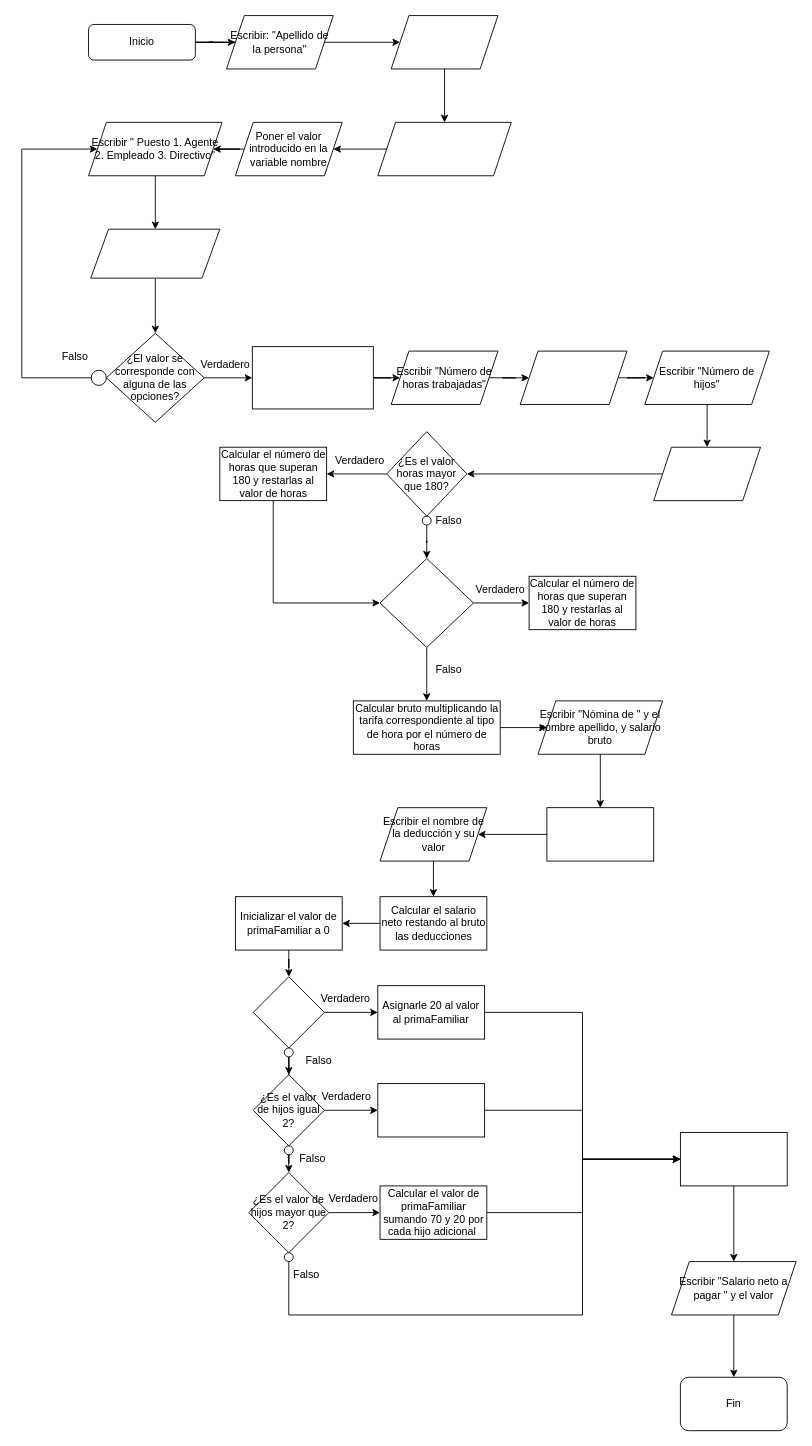
Image size: 812x1446. Some labels were removed from this diagram. Each missing label, with the centre of its shape:
Asignarle 50 al valor al primaFamiliar: point (431, 1110)
Asignarle el valor de puesto a su correspondiente string en la variable estado: point (312, 377)
Calcular las deducciones: point (600, 834)
Calcular neto a pagar sumando el valor de prima familiar a neto: point (733, 1159)
Escribir "Nombre de la persona: point (444, 148)
Poner el valor introducido en la variable apellido: point (444, 42)
Poner el valor introducido en la variable hijos: point (707, 473)
Poner el valor introducido en la variable horas: point (573, 377)
Poner el valor introducido en la variable puesto: point (155, 253)
¿Es el número de hijos igual a 1?: point (288, 1012)
¿Es el valor de horas mayor que 169?: point (426, 602)
